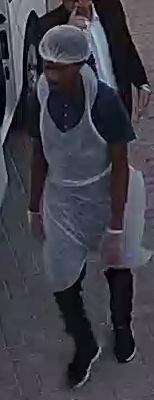apron: (32, 32, 109, 195)
